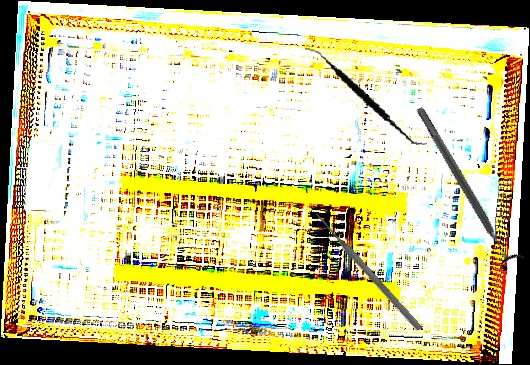Fixation Ring: (407, 100, 527, 274)
Pusher: (312, 209, 424, 333)
Spatula Surgical: (292, 45, 440, 147)
